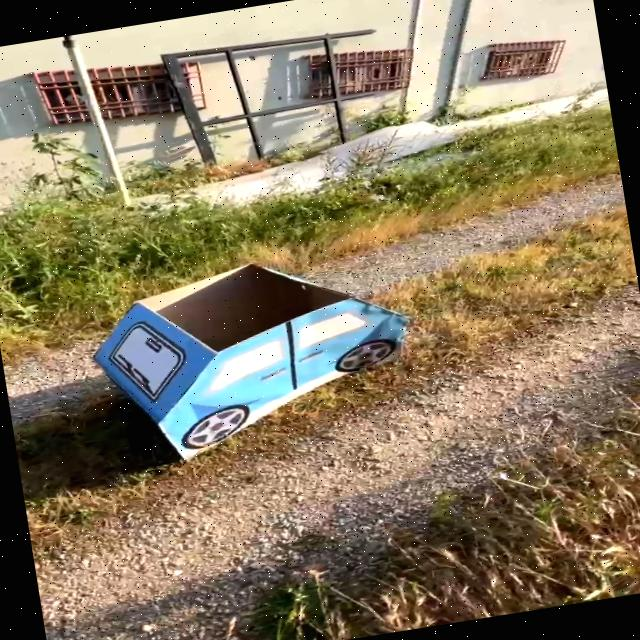blue_car: (8, 207, 496, 519)
